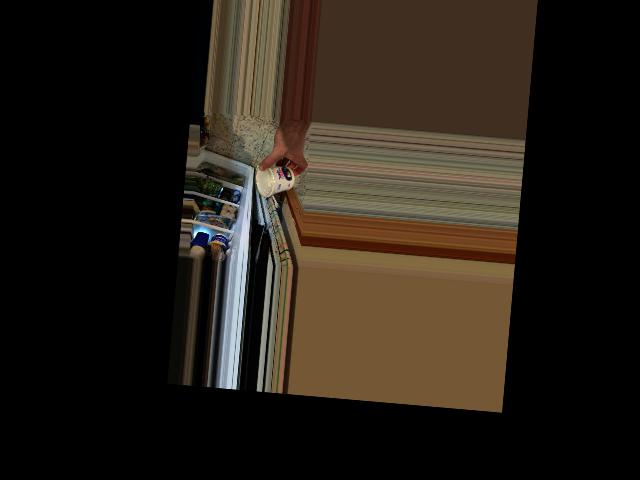cotage: (262, 161, 295, 200)
